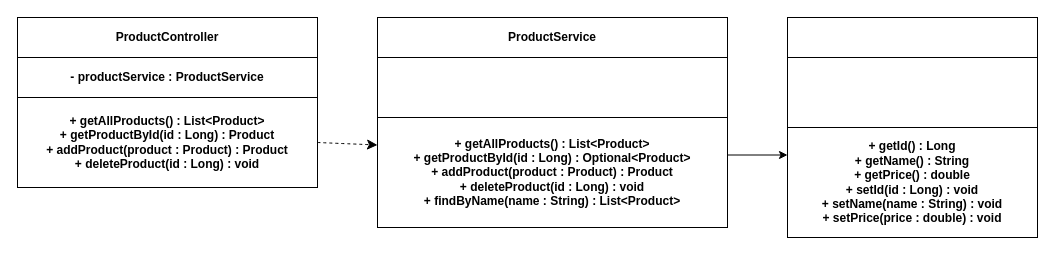
Image size: 1055x255. Some labels were removed from this diagram. The box of each missing label's shape, as (x1, y1, x2, y2) in pixels:
- id : Long - name : String - price : double: (786, 56, 1038, 128)
- products : List<Product> - nextId : Long: (376, 56, 728, 118)
Product: (786, 16, 1038, 58)
